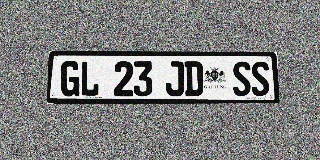2: (114, 61, 133, 96)
3: (134, 61, 152, 96)
D: (184, 61, 203, 96)
G: (60, 61, 80, 96)
J: (166, 61, 184, 96)
L: (80, 61, 100, 96)
S: (232, 61, 251, 96), (251, 61, 270, 96)
